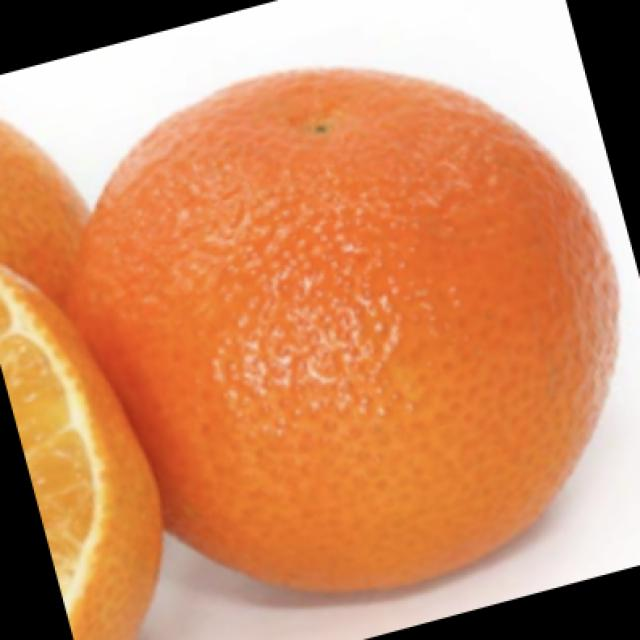matang: (63, 72, 611, 589), (0, 262, 164, 638), (1, 122, 94, 312)
